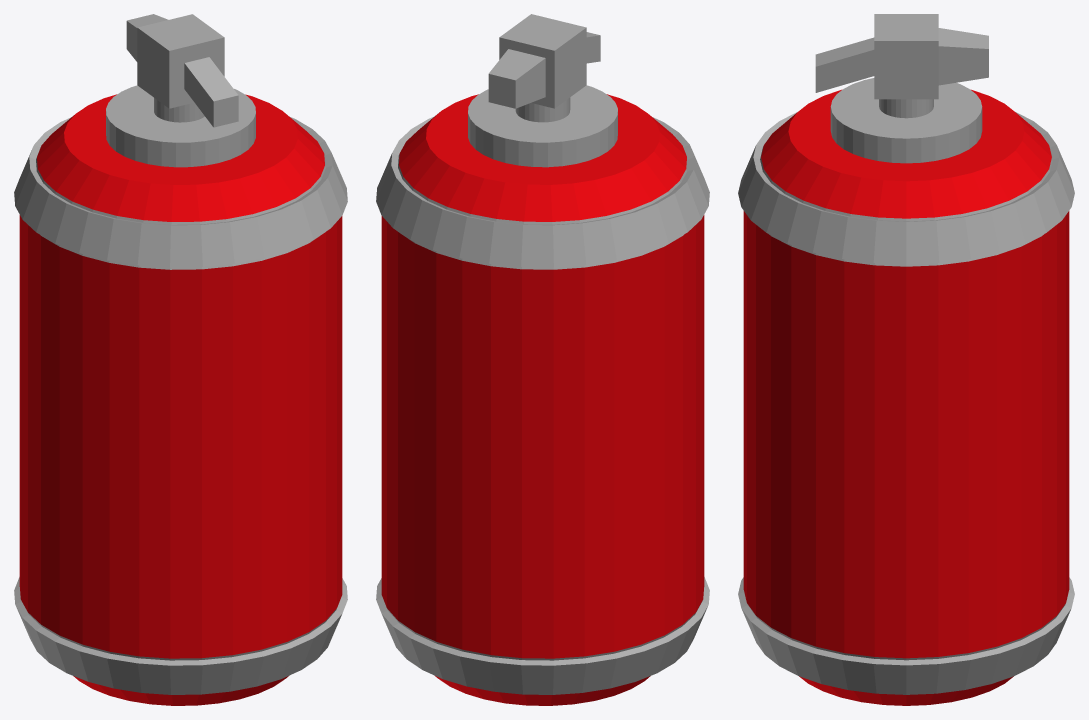
File: noscan.fbx
3 renders of one model, left to right at view 1: azimuth 30°, elevation 25°; view 2: azimuth 150°, elevation 25°; view 3: azimuth 270°, elevation 25°, orthographic.
Parts seen in each view (by area): view 1: Cylinder; view 2: Cylinder; view 3: Cylinder.
Part boxes in pixels (x1=…): Cylinder: x1=14, y1=14, x2=347, y2=705; Cylinder: x1=376, y1=14, x2=709, y2=705; Cylinder: x1=738, y1=14, x2=1074, y2=705.
Bounding box in the file's own units: 0.8933 × 0.8933 × 1.84.
